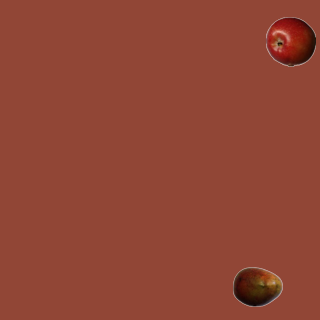Apple Braeburn: (265, 16, 315, 66)
Mango Red: (232, 261, 282, 311)
